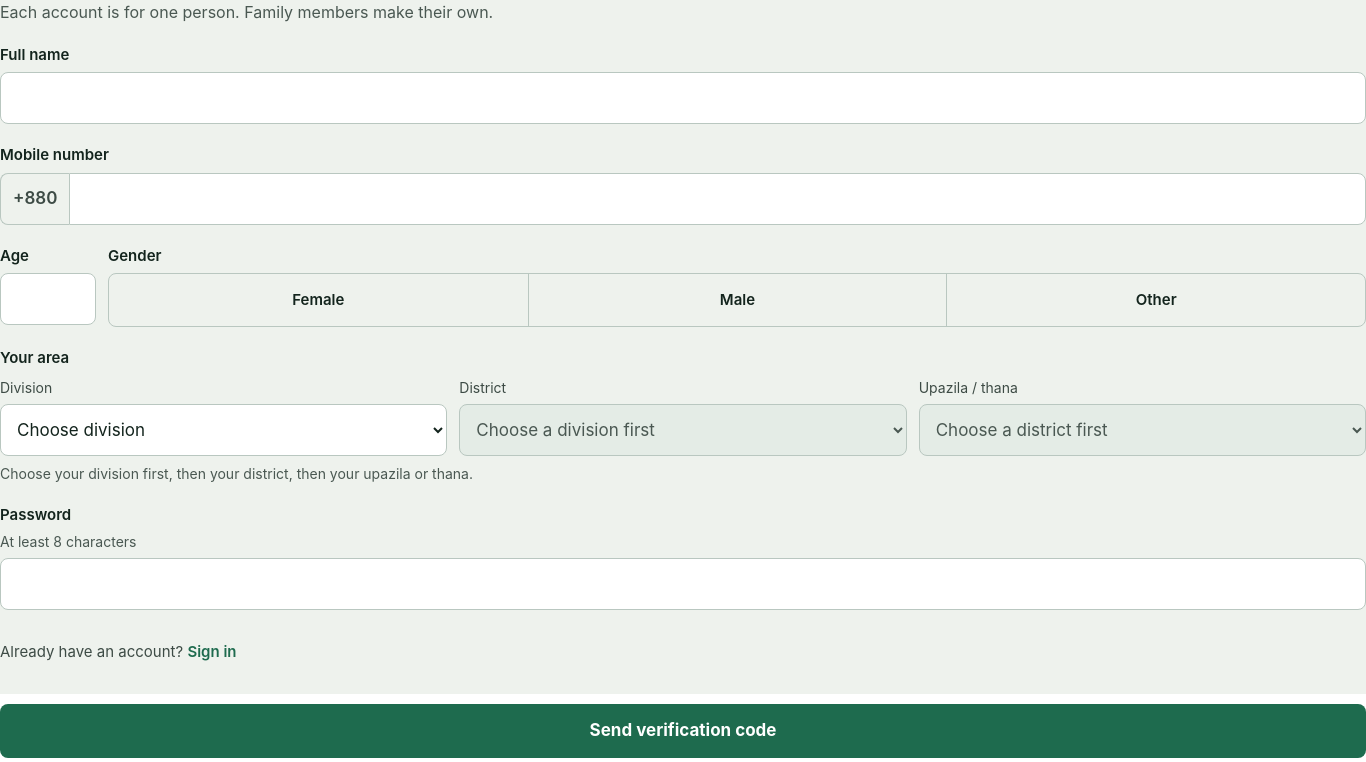
Test case: sign-up › points out missing fields without calling the API
(page scrolled)
Click the button "Send verification code": (683, 731) [0,704,1365,758]
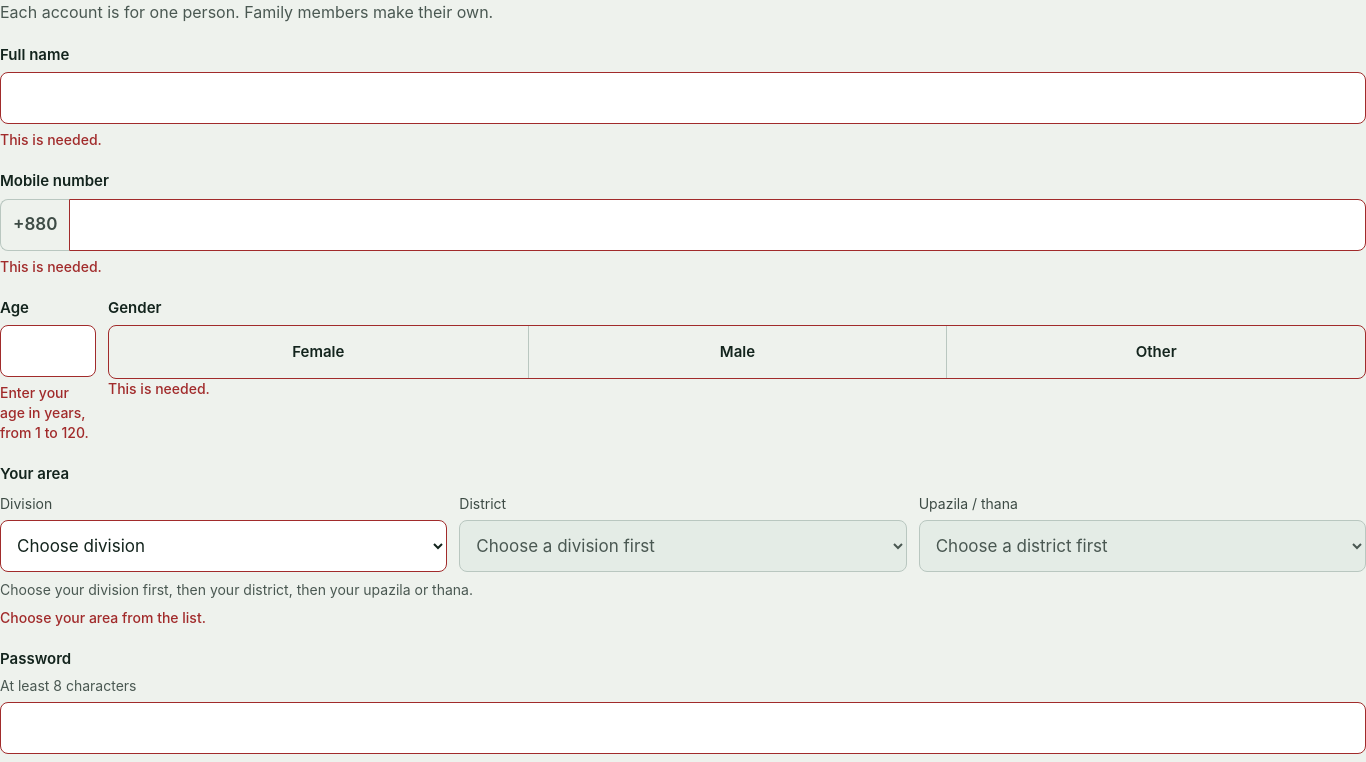
Result: the text "Choose your area from the list." is shown at [0,608,206,626]
Result: the text "Enter your age in years, from 1 to 120." is shown at [0,383,96,443]
